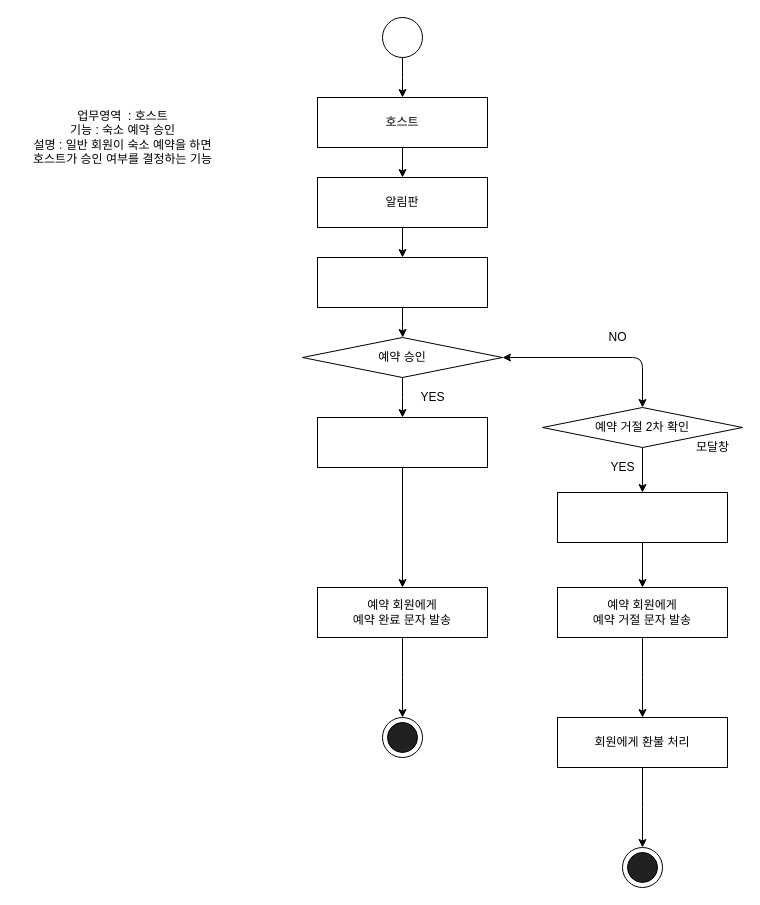
Some shapes in this 760 by 905 pixel diagram are drawn without their labels. Each missing label, with the centre of its shape:
예약 거절 완료 화면: (642,517)
예약 완료 화면: (402,442)
예약 요청 정보 화면: (402,282)
